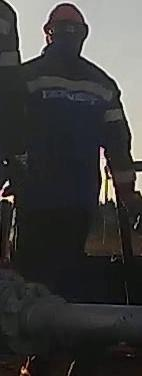gloves: (114, 168, 142, 216)
helmet: (42, 2, 89, 39)
vest: (25, 55, 120, 177)
